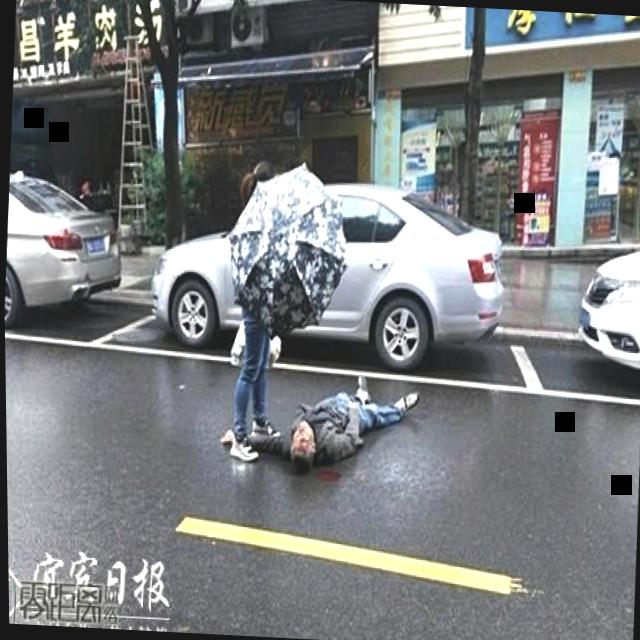Fall-Detected: (262, 351, 429, 488)
